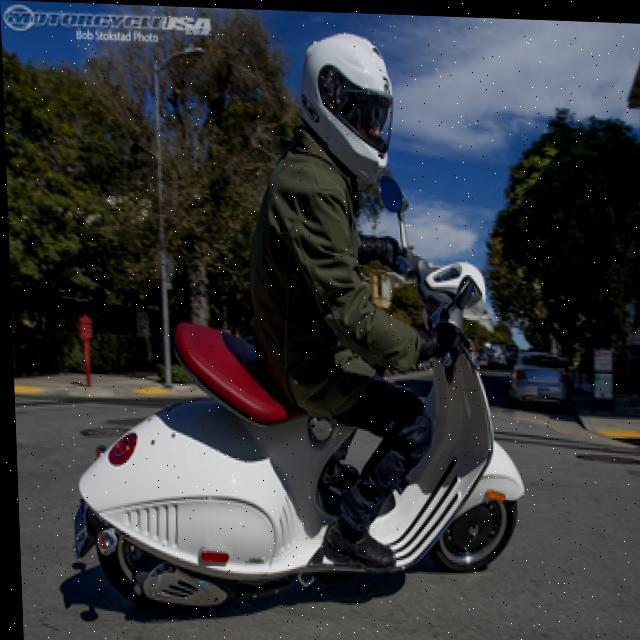Helmet: (296, 22, 398, 186)
